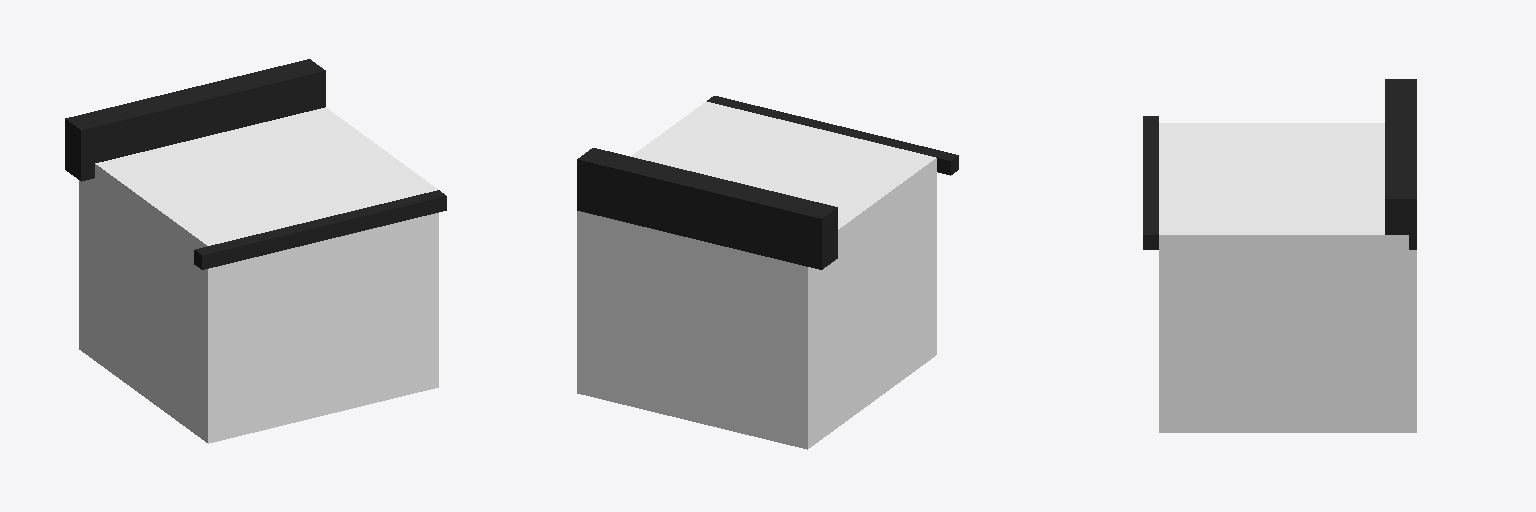
3 views of the same model, side by side, from view 1: azimuth 30°, elevation 25°; view 2: azimuth 150°, elevation 25°; view 3: azimuth 270°, elevation 25° (orthographic).
Parts seen in each view (by area): view 1: object 1; view 2: object 1; view 3: object 1.
Part boxes in pixels (x1,y1,x2,y2): object 1: (65, 59, 446, 443); object 1: (577, 96, 958, 449); object 1: (1143, 79, 1416, 432).
Bounding box in the file's own units: 3.5 × 3.2 × 3.4.
Materials: 1 (1 with a texture image).